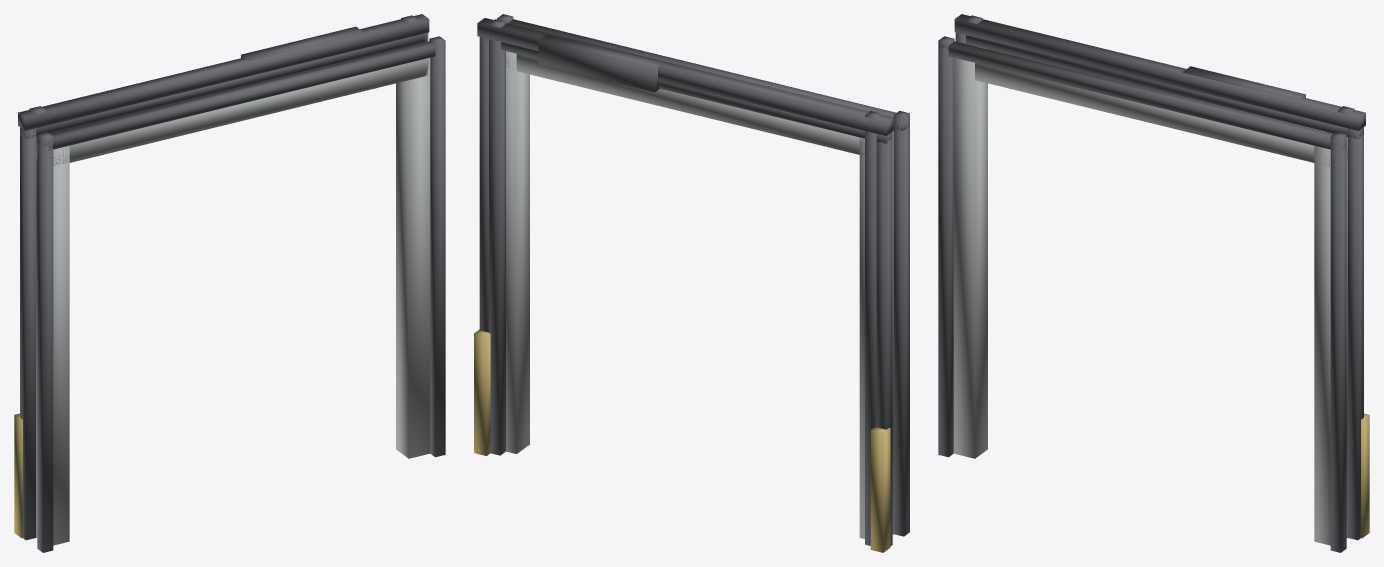
The model's file is bay_opening_service_bay_w300_h320_d20.glb.
3 views of the same model, side by side, from view 1: azimuth 30°, elevation 25°; view 2: azimuth 150°, elevation 25°; view 3: azimuth 330°, elevation 25° (orthographic).
Visible parts, largest first — view 1: world; view 2: world; view 3: world.
Boxes of the visible parts, x1=… form: world: x1=14, y1=14, x2=445, y2=552; world: x1=474, y1=14, x2=909, y2=552; world: x1=938, y1=14, x2=1369, y2=552.
Size of the model in its own units: 3.58 by 3.59 by 0.422.
